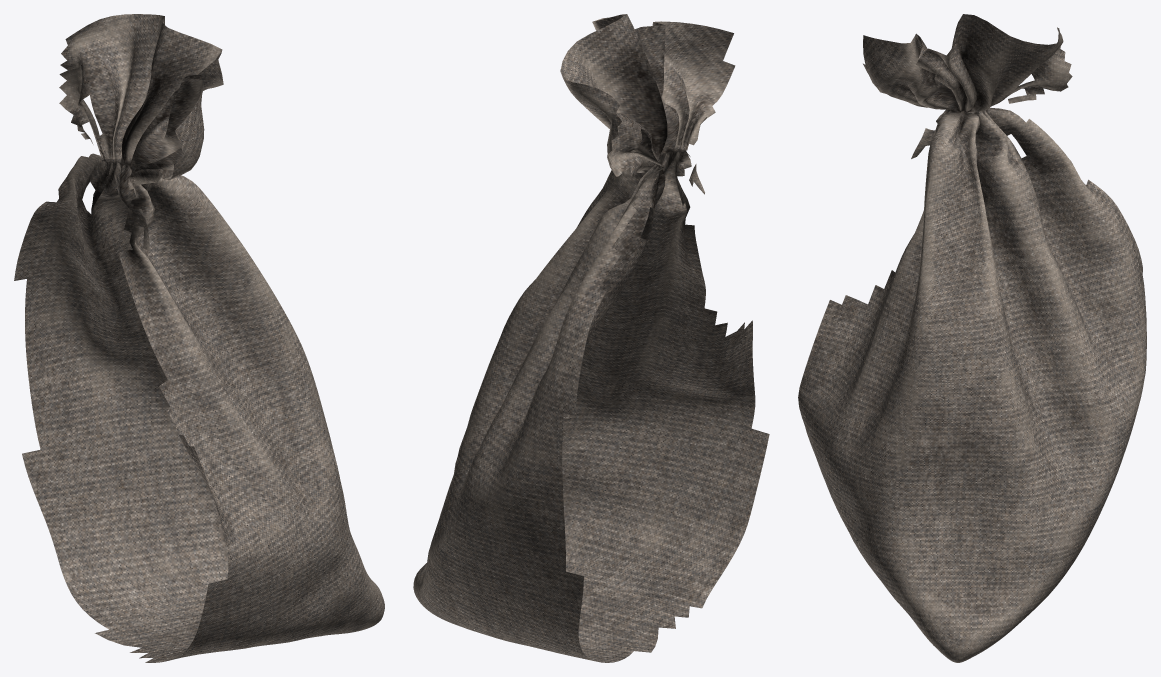
Rendered from Yeast_half_right.fbx.
3 renders of one model, left to right at view 1: azimuth 30°, elevation 25°; view 2: azimuth 150°, elevation 25°; view 3: azimuth 270°, elevation 25°, orthographic. The views are drawn at different scales.
Visible parts, largest first — view 1: Flour_Bag_LP.002; view 2: Flour_Bag_LP.002; view 3: Flour_Bag_LP.002.
Boxes of the visible parts, x1,y1,x2,y2 form: Flour_Bag_LP.002: (14, 14, 384, 662); Flour_Bag_LP.002: (413, 14, 769, 662); Flour_Bag_LP.002: (798, 14, 1146, 662).
Size of the model in its own units: 17.8 by 40.52 by 22.72.
